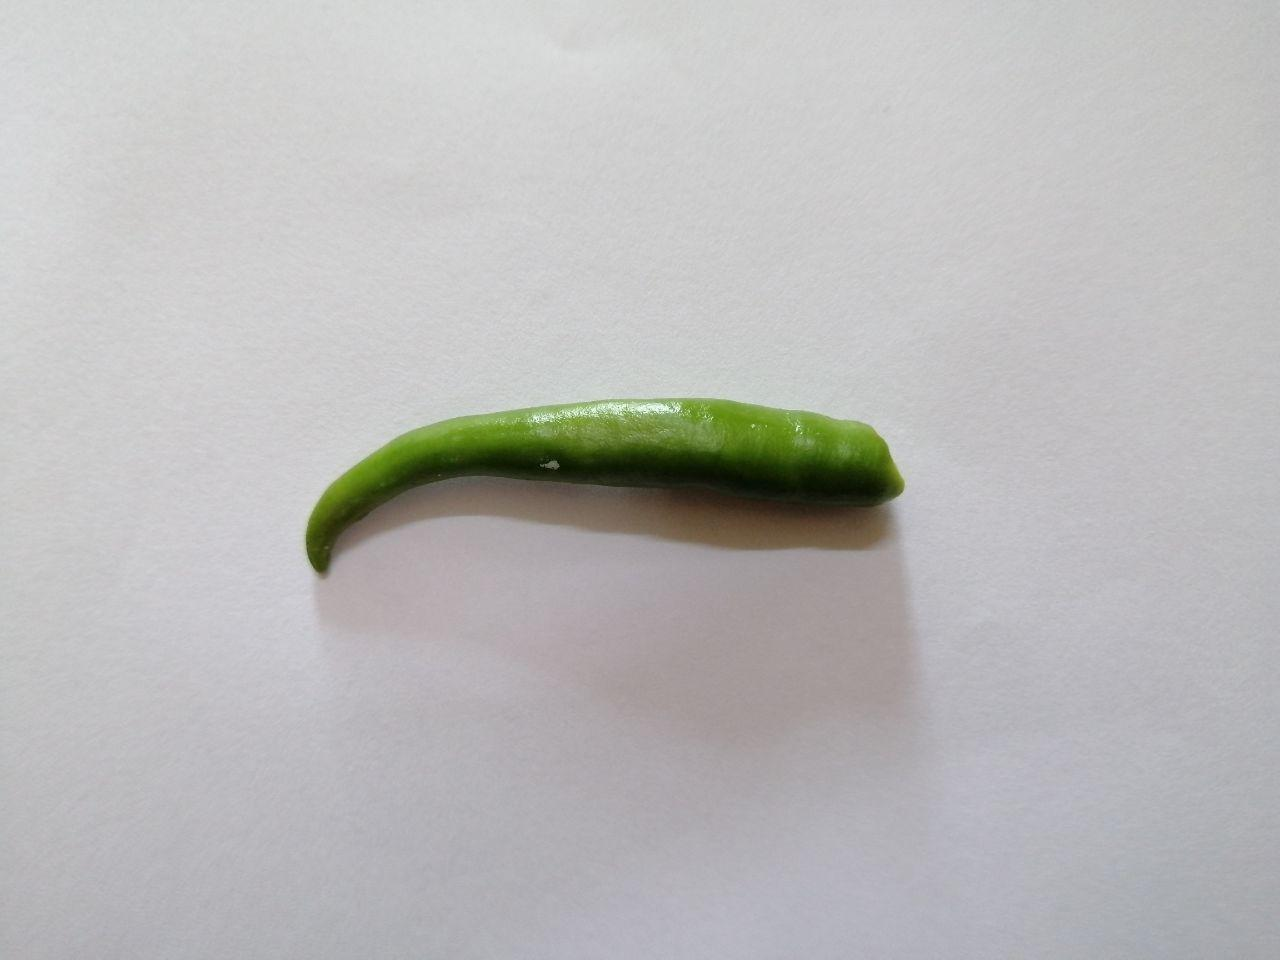lada hijau: (287, 386, 919, 590)
